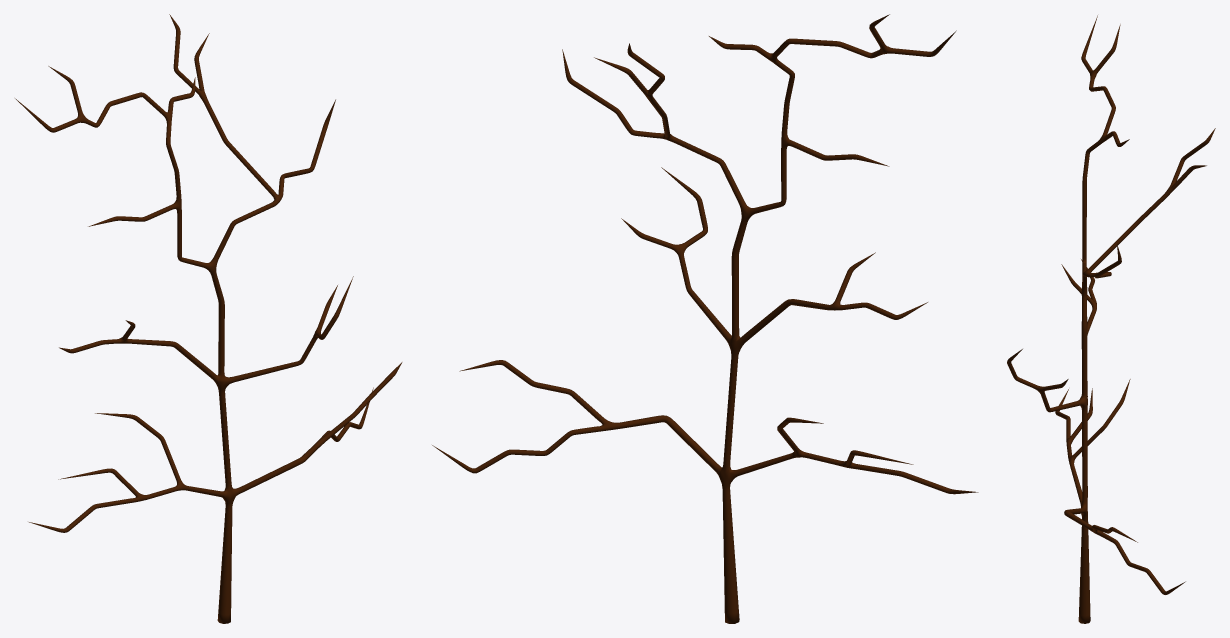
Rendered from Tree3.fbx.
3 renders of one model, left to right at view 1: azimuth 30°, elevation 25°; view 2: azimuth 150°, elevation 25°; view 3: azimuth 270°, elevation 25°, orthographic. The views are drawn at different scales.
Parts seen in each view (by area): view 1: Vert.002; view 2: Vert.002; view 3: Vert.002.
Part boxes in pixels (x1,y1,x2,y2): Vert.002: (15, 14, 402, 623); Vert.002: (432, 14, 978, 623); Vert.002: (1007, 15, 1215, 623).
Bounding box in the file's own units: 2943 × 3942 × 1413.
